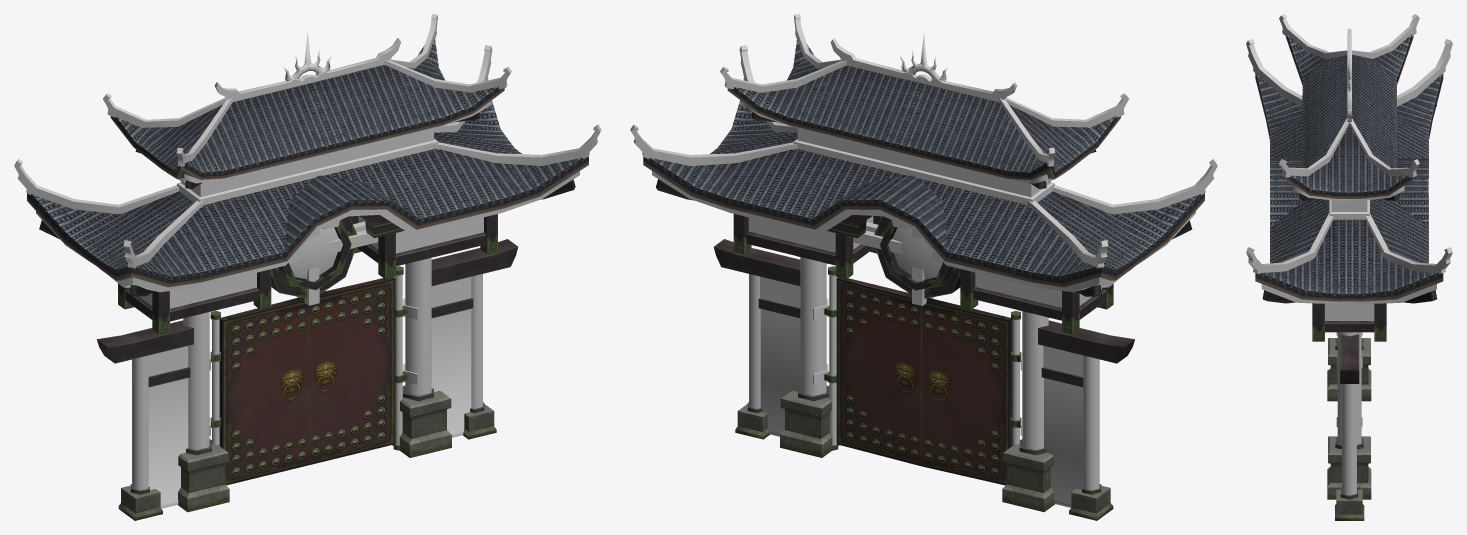
Rendered from JiaYeSi_PaiFang_1.FBX.
3 renders of one model, left to right at view 1: azimuth 30°, elevation 25°; view 2: azimuth 150°, elevation 25°; view 3: azimuth 270°, elevation 25°, orthographic. The views are drawn at different scales.
Visible parts, largest first — view 1: JiaYeSi_PaiFang_1b, JiaYeSi_PaiFang_1g, JiaYeSi_PaiFang_1d, JiaYeSi_PaiFang_1e, JiaYeSi_PaiFang_1a, JiaYeSi_PaiFang_1h, JiaYeSi_PaiFang_1f, JiaYeSi_PaiFang_1c; view 2: JiaYeSi_PaiFang_1b, JiaYeSi_PaiFang_1g, JiaYeSi_PaiFang_1d, JiaYeSi_PaiFang_1e, JiaYeSi_PaiFang_1a, JiaYeSi_PaiFang_1h, JiaYeSi_PaiFang_1f, JiaYeSi_PaiFang_1c; view 3: JiaYeSi_PaiFang_1b, JiaYeSi_PaiFang_1a, JiaYeSi_PaiFang_1d, JiaYeSi_PaiFang_1f, JiaYeSi_PaiFang_1e, JiaYeSi_PaiFang_1c.
Boxes of the visible parts, <box> form: JiaYeSi_PaiFang_1b: <box>27,38,588,287</box>; JiaYeSi_PaiFang_1g: <box>219,277,395,485</box>; JiaYeSi_PaiFang_1d: <box>130,128,483,490</box>; JiaYeSi_PaiFang_1e: <box>39,112,575,494</box>; JiaYeSi_PaiFang_1a: <box>14,14,601,278</box>; JiaYeSi_PaiFang_1h: <box>148,309,471,508</box>; JiaYeSi_PaiFang_1f: <box>118,387,496,520</box>; JiaYeSi_PaiFang_1c: <box>36,100,579,292</box>; JiaYeSi_PaiFang_1b: <box>643,38,1204,287</box>; JiaYeSi_PaiFang_1g: <box>836,277,1012,485</box>; JiaYeSi_PaiFang_1d: <box>748,128,1101,490</box>; JiaYeSi_PaiFang_1e: <box>656,112,1192,494</box>; JiaYeSi_PaiFang_1a: <box>630,14,1217,279</box>; JiaYeSi_PaiFang_1h: <box>760,309,1083,507</box>; JiaYeSi_PaiFang_1f: <box>735,387,1113,520</box>; JiaYeSi_PaiFang_1c: <box>652,100,1195,292</box>; JiaYeSi_PaiFang_1b: <box>1255,34,1443,301</box>; JiaYeSi_PaiFang_1a: <box>1246,14,1452,274</box>; JiaYeSi_PaiFang_1d: <box>1325,200,1374,495</box>; JiaYeSi_PaiFang_1f: <box>1327,338,1371,520</box>; JiaYeSi_PaiFang_1e: <box>1262,105,1436,499</box>; JiaYeSi_PaiFang_1c: <box>1261,186,1436,303</box>.
Size of the model in its own units: 2601 by 2283 by 1075.
